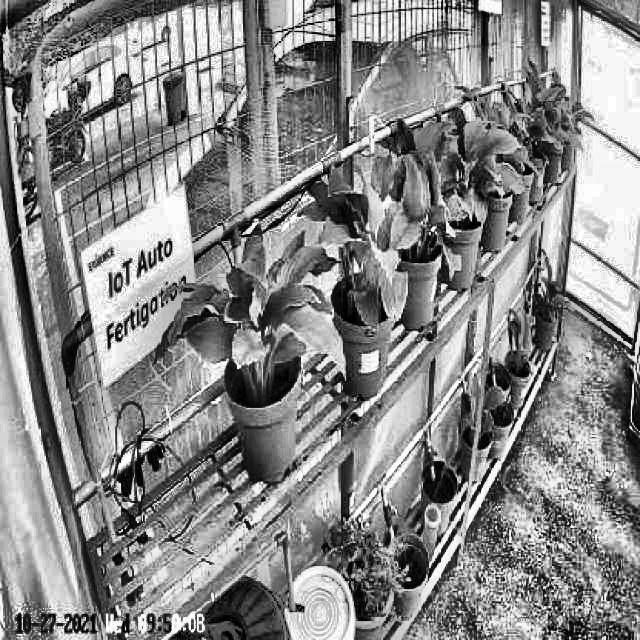plants: (156, 225, 347, 404), (310, 179, 410, 339), (373, 132, 459, 282), (422, 112, 522, 225)
